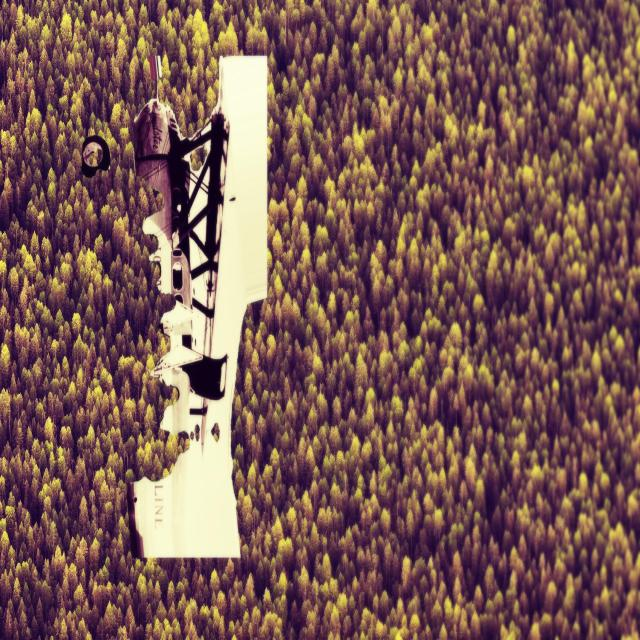airplane: (82, 51, 268, 560)
